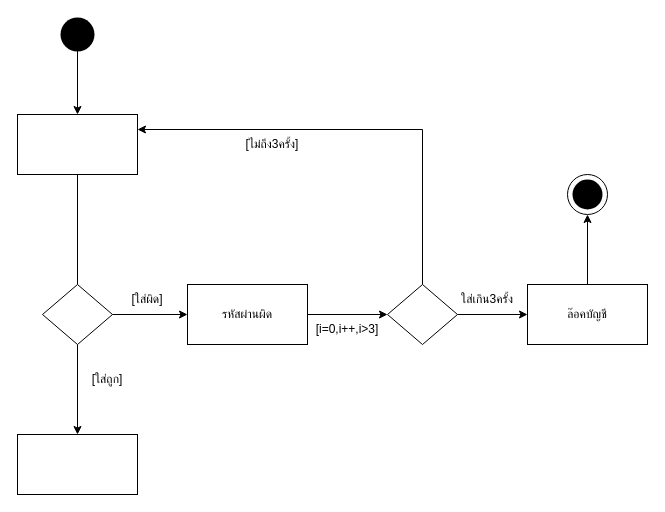
Some shapes in this 665 by 512 pixel diagram are drawn without their labels. The box of each missing label's shape, as (x1, y1, x2, y2) in pixels:
ล๊อคอิน ยูสเชอร์เนม รหัสผ่าน: (16, 114, 138, 174)
สำเร็จ: (16, 434, 138, 494)
